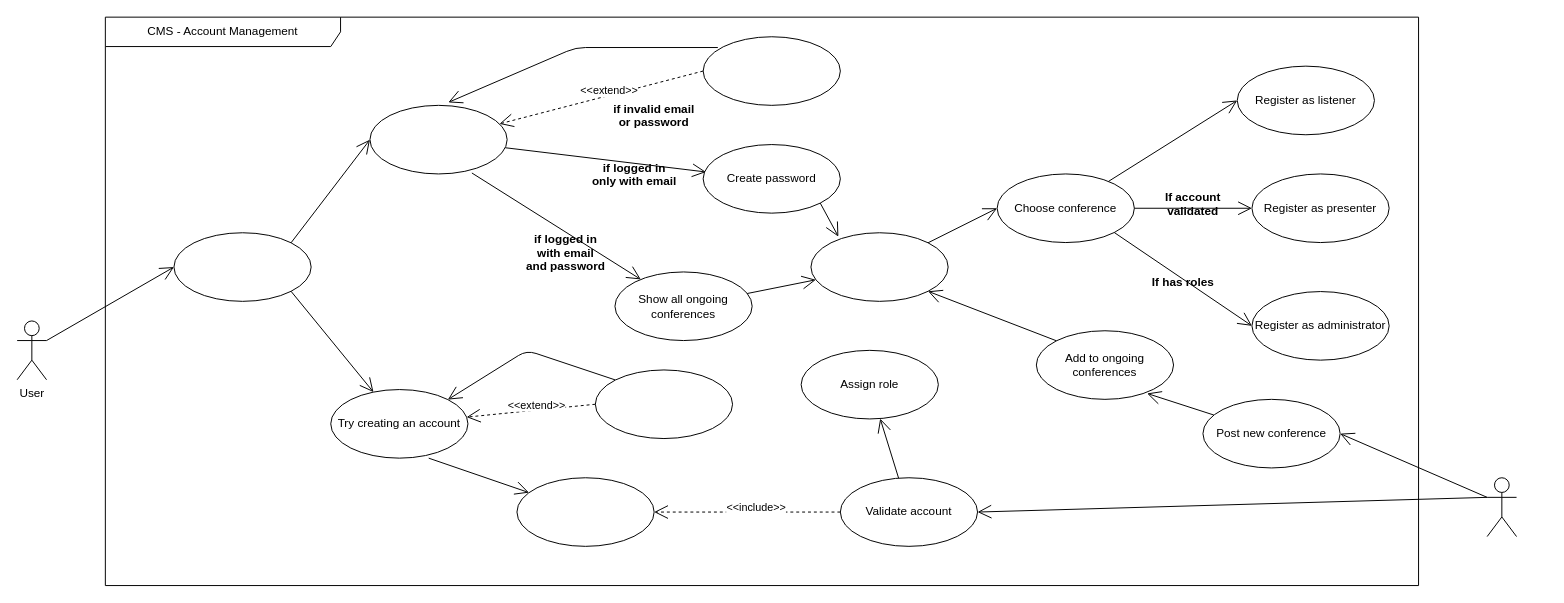
Some shapes in this 1564 by 603 pixel diagram are drawn without their labels. Here are the shapes that lost their labels. From the top down, the centre of each, then its label:
At (771,70): "Show invalid credentials".
At (438,139): "Try to log in".
At (242,266): "Show login screen".
At (879,266): "Display list of ongoing conferences".
At (663,404): "Display email in use".
At (585,511): "Create account".
At (1501,507): "Site administrator".
